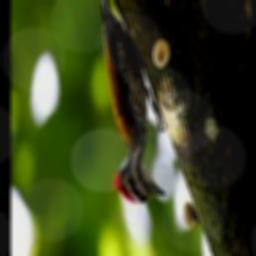Woodpecker: (94, 0, 166, 203)
